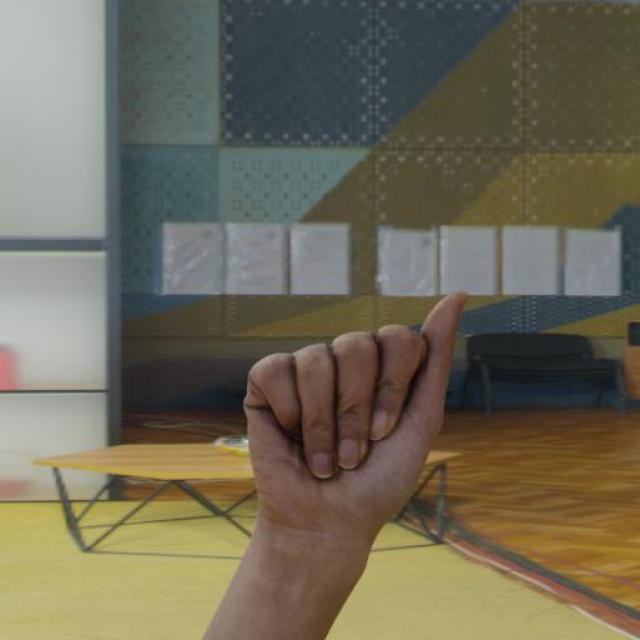A: (236, 282, 478, 523)
